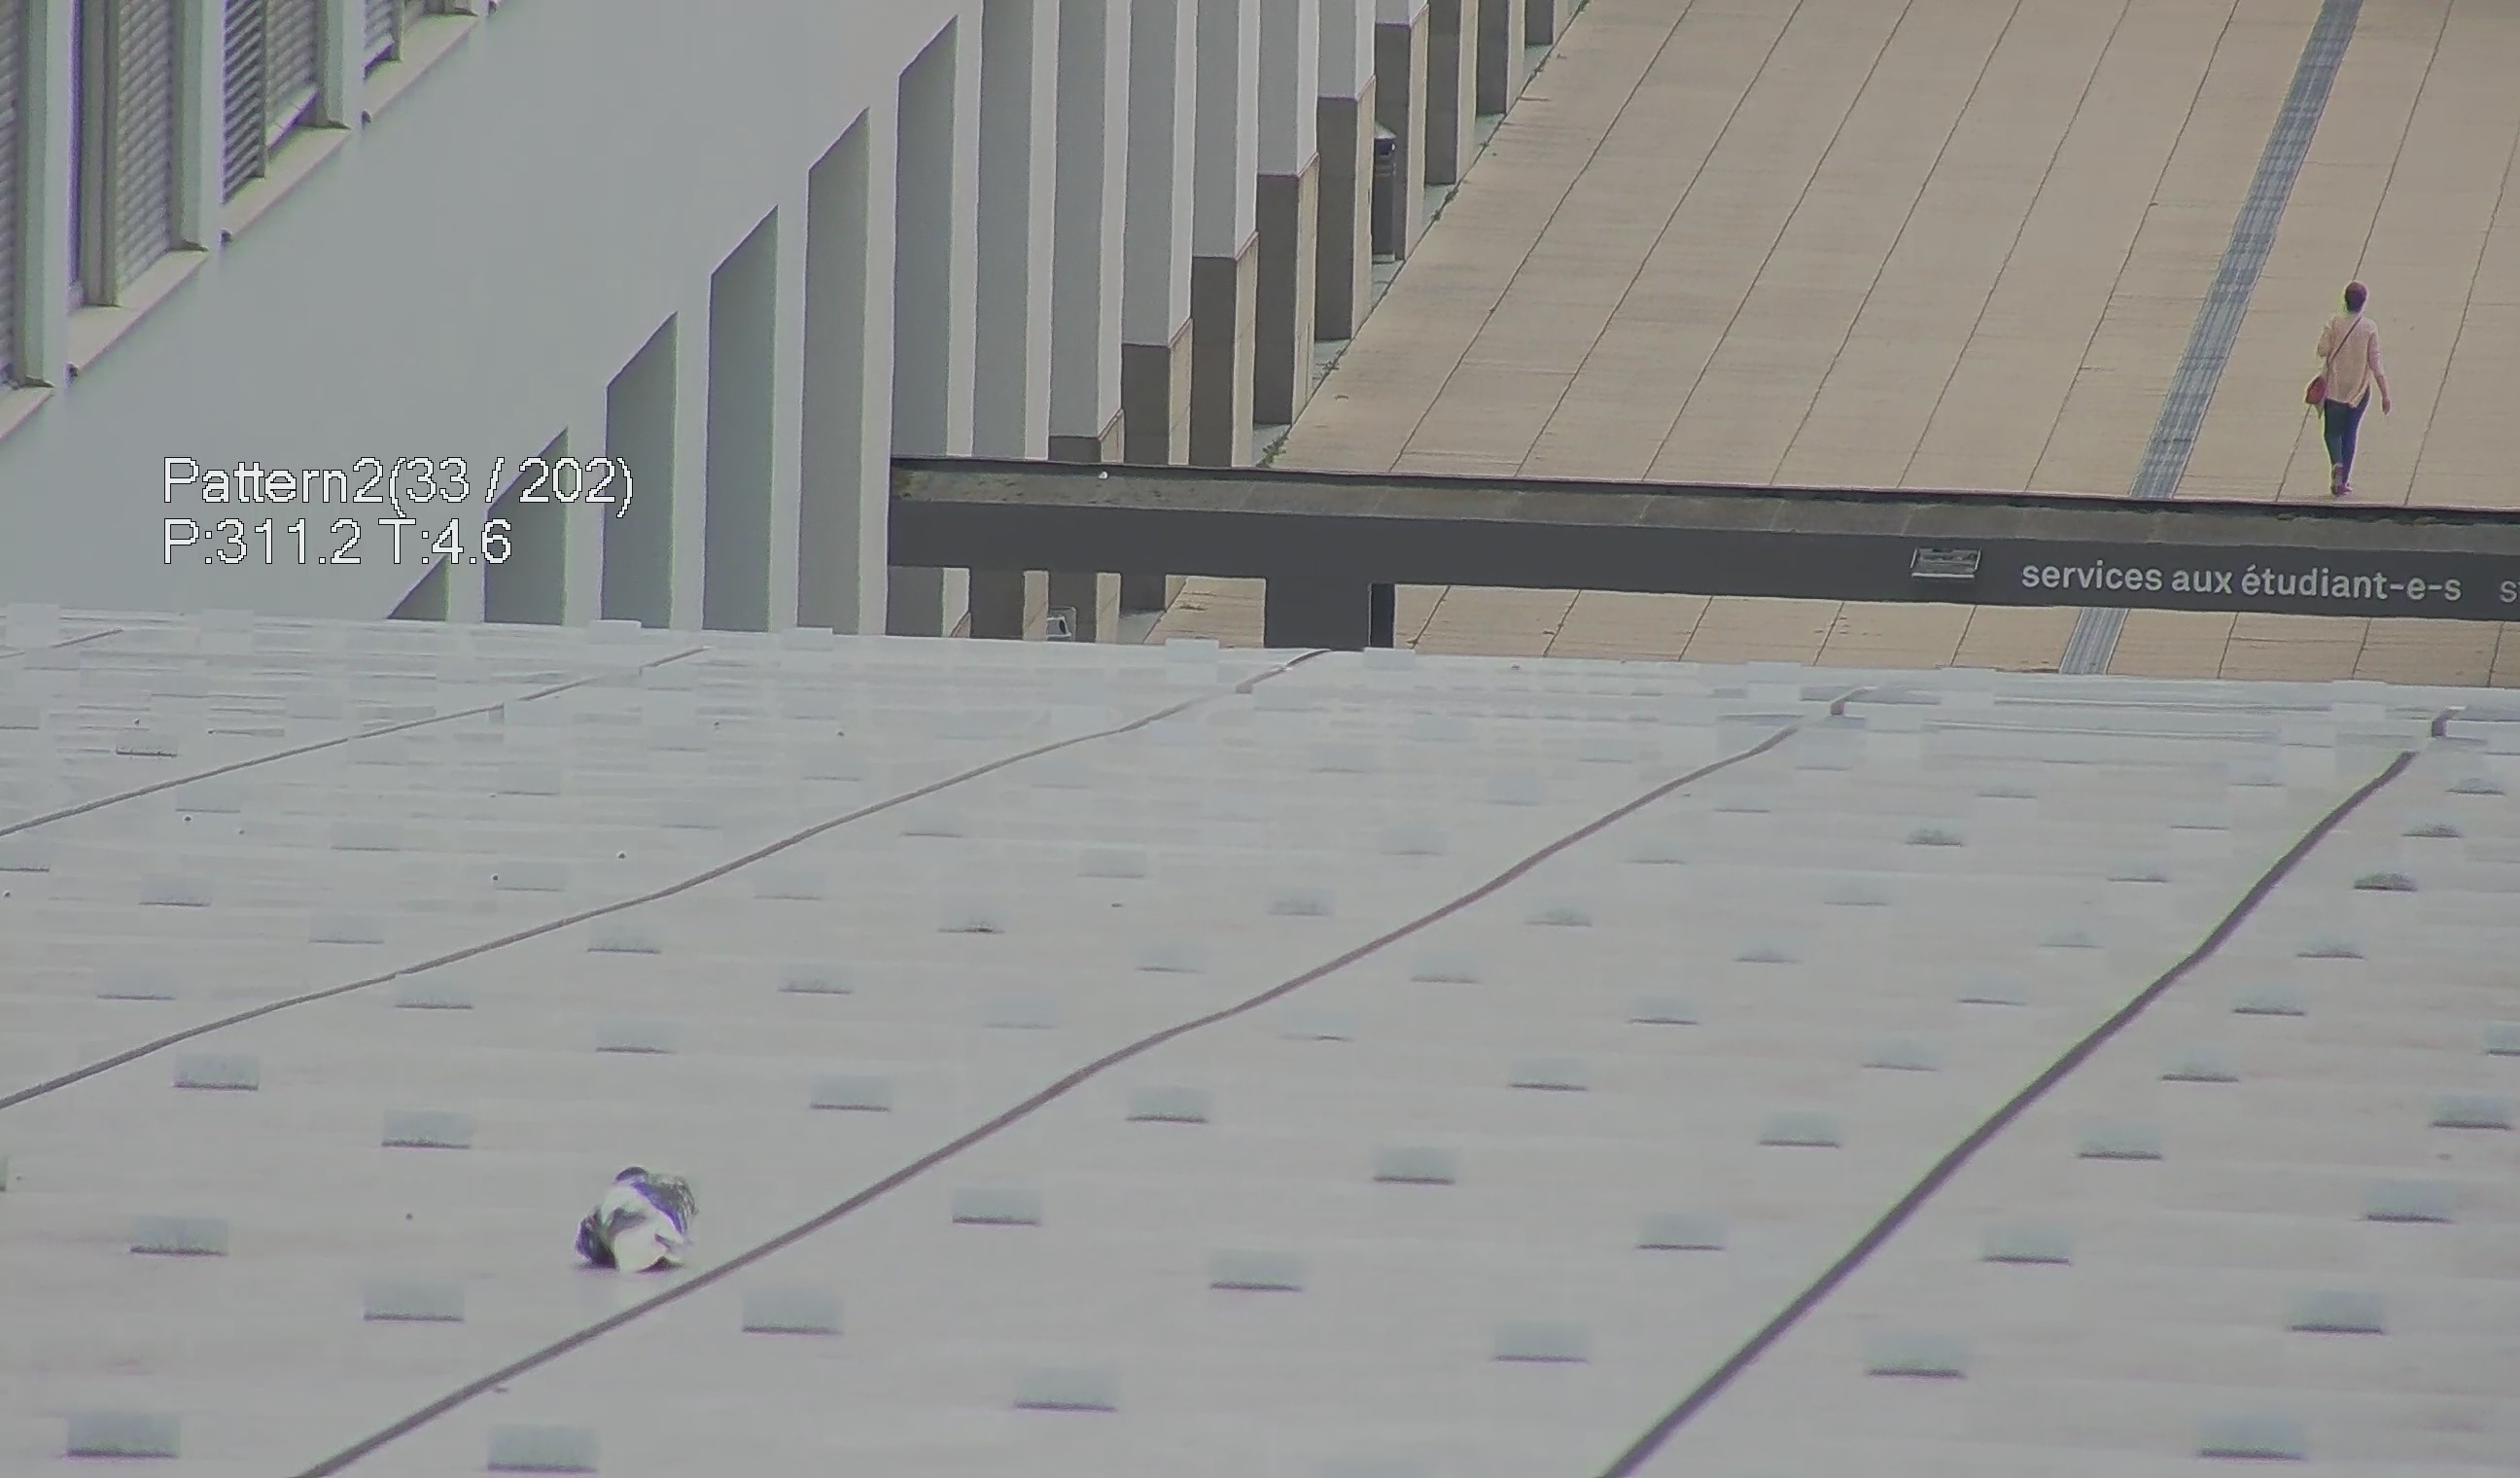Pigeon: (564, 1152, 698, 1286)
